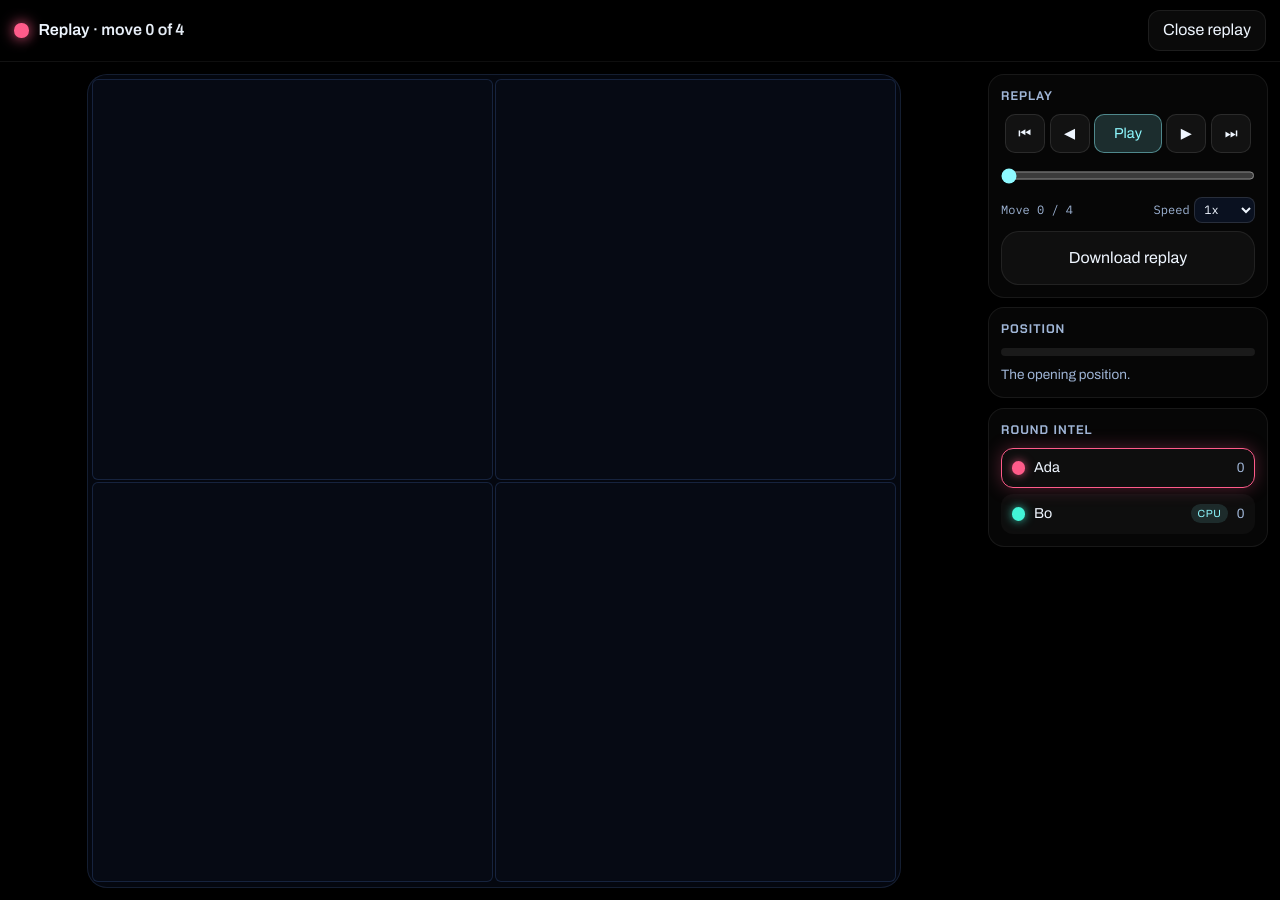
Test: ReplayScreen › steps a whole move at a time and names who played it
Click the button named "Next move" at [1186, 134], box x1=1166 y1=114 x2=1206 y2=153
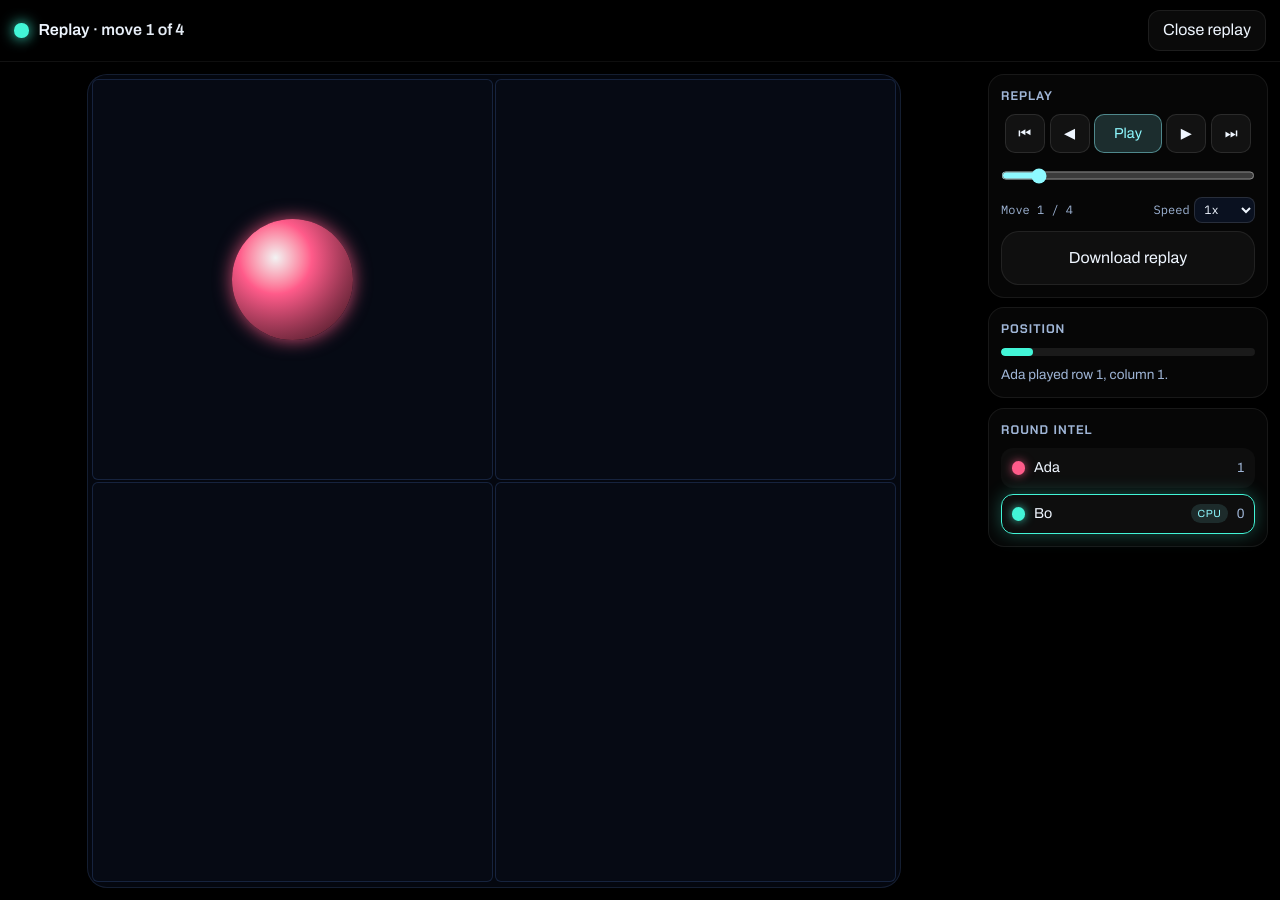
Check: the text with test id "replay-position" reads "Move 1 / 4", box x1=1001 y1=201 x2=1073 y2=219
Check: the text "Ada played row 1, column 1." is shown, box x1=1001 y1=366 x2=1168 y2=382
Check: the number of elements with test id "orb" is 1, box x1=232 y1=219 x2=353 y2=340
Click the button named "Next move" at [1186, 134], box x1=1166 y1=114 x2=1206 y2=153
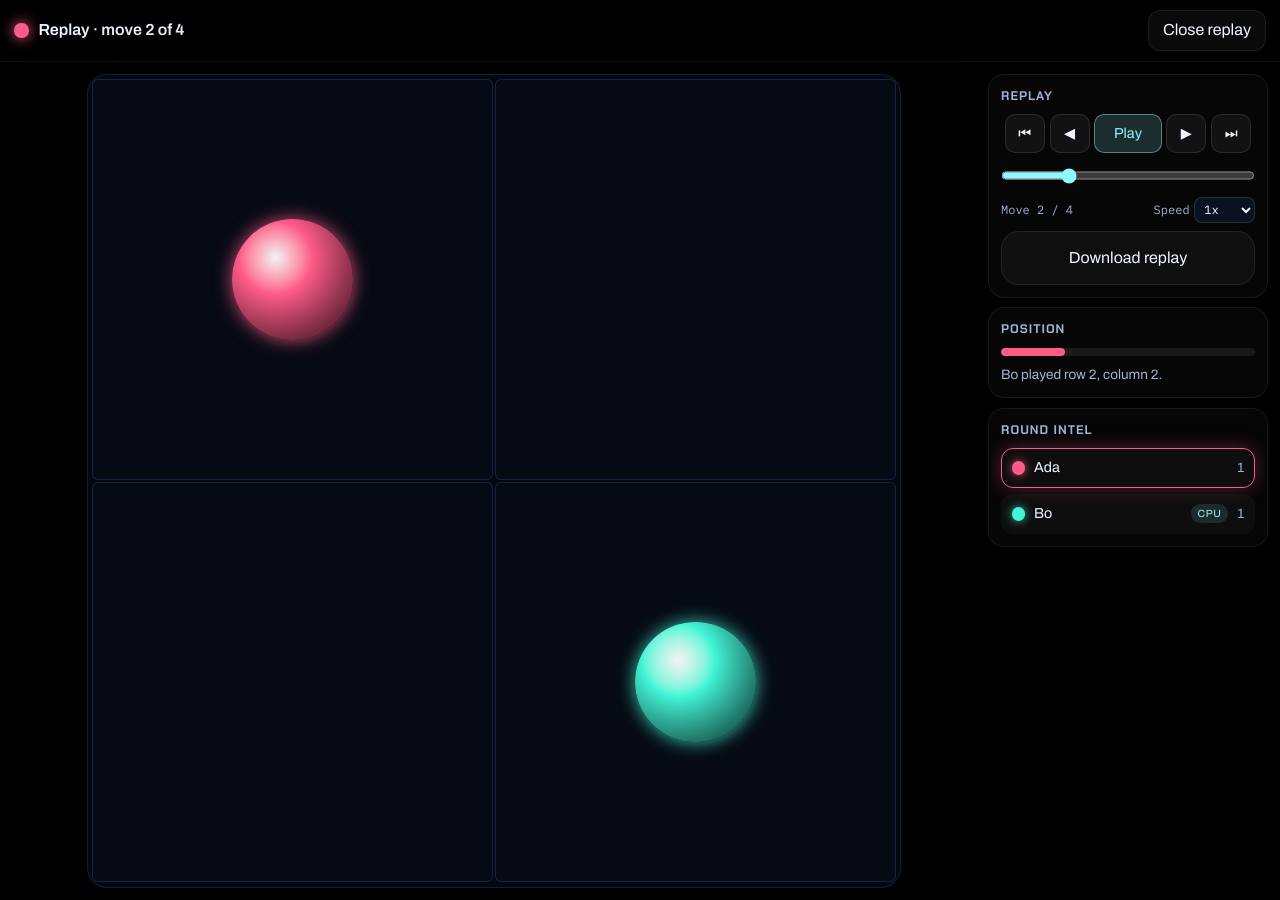
Check: the text with test id "replay-position" reads "Move 2 / 4", box x1=1001 y1=201 x2=1073 y2=219
Check: the number of elements with test id "orb" is 2, box x1=232 y1=219 x2=353 y2=340; x1=635 y1=622 x2=756 y2=742
Click the button named "Previous move" at [1070, 134], box x1=1050 y1=114 x2=1090 y2=153
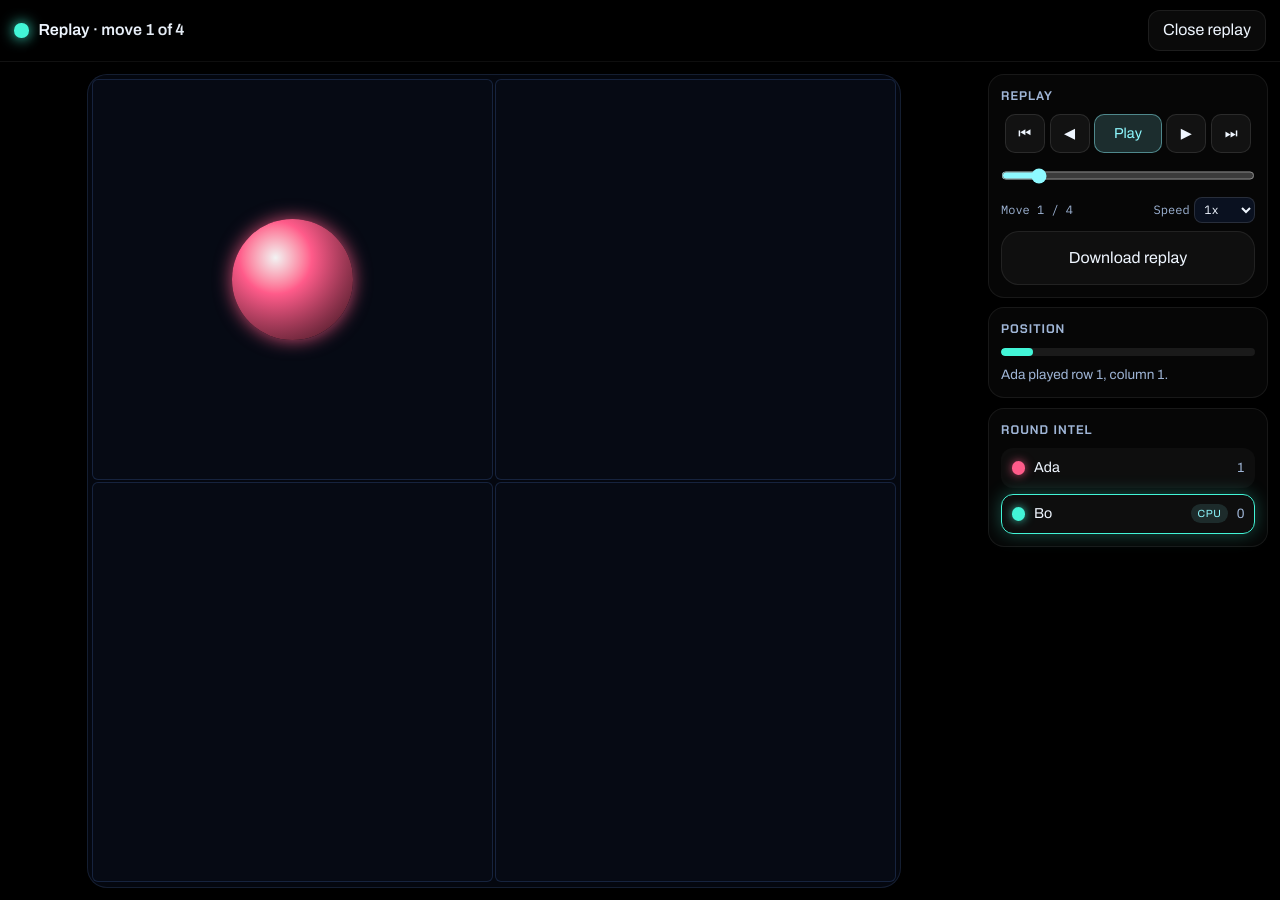
Check: the text with test id "replay-position" reads "Move 1 / 4", box x1=1001 y1=201 x2=1073 y2=219
